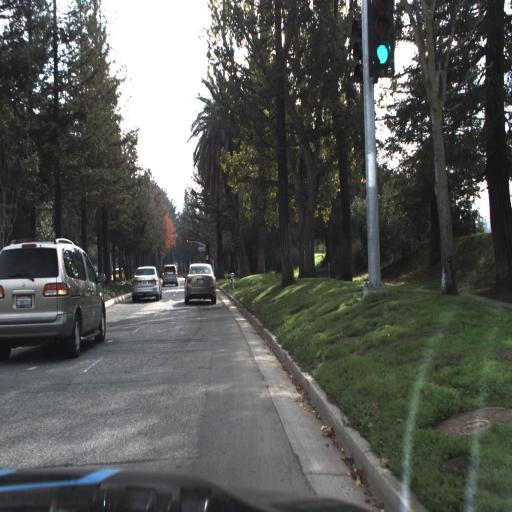car: (0, 230, 111, 365), (182, 258, 220, 308), (128, 259, 165, 306), (161, 262, 179, 286), (162, 263, 178, 288)
trafficLight-Green: (370, 0, 393, 74)
